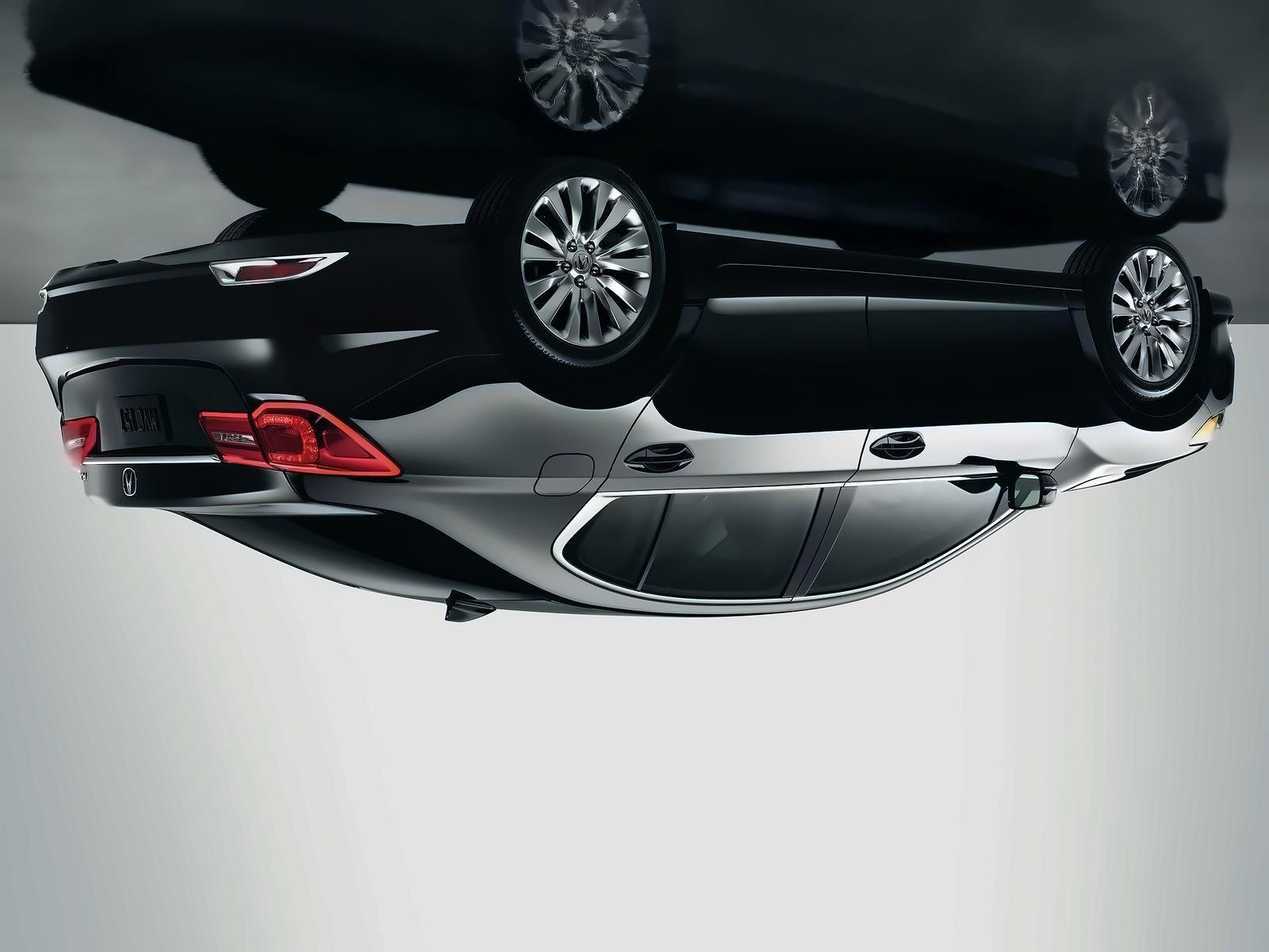Car boot: (41, 354, 369, 546)
Fender - -F-L-: (1041, 283, 1214, 533)
Fender - -R-L-: (416, 225, 696, 636)
Passenger-s door - -F-L-: (777, 233, 1095, 648)
Passenger-s door - -R-L-: (520, 216, 904, 642)
Rear bumper: (28, 199, 516, 387)
Rear light - -L-: (202, 403, 409, 485)
Rear light - -R-: (55, 414, 110, 480)
Side bumper - -L-: (682, 240, 1088, 357)
Side mirror - -L-: (988, 459, 1062, 514)
